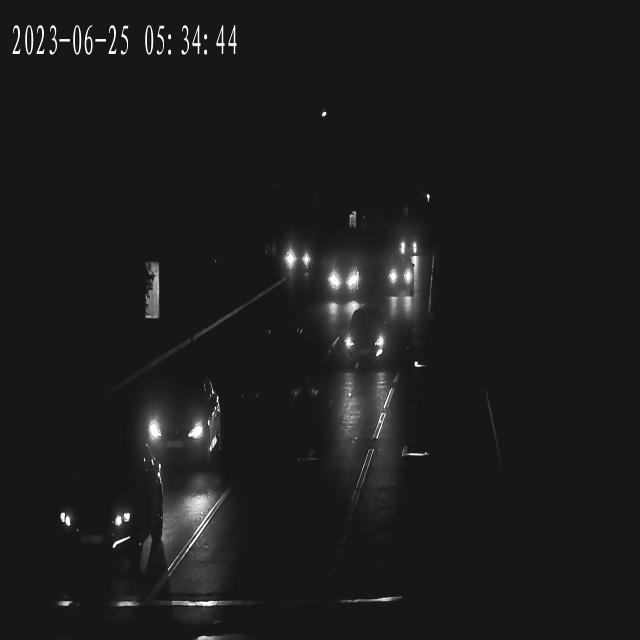Car: (54, 448, 162, 574), (140, 360, 219, 466), (338, 312, 392, 376), (282, 227, 316, 276), (333, 245, 361, 303), (388, 254, 413, 297), (398, 222, 418, 260)
